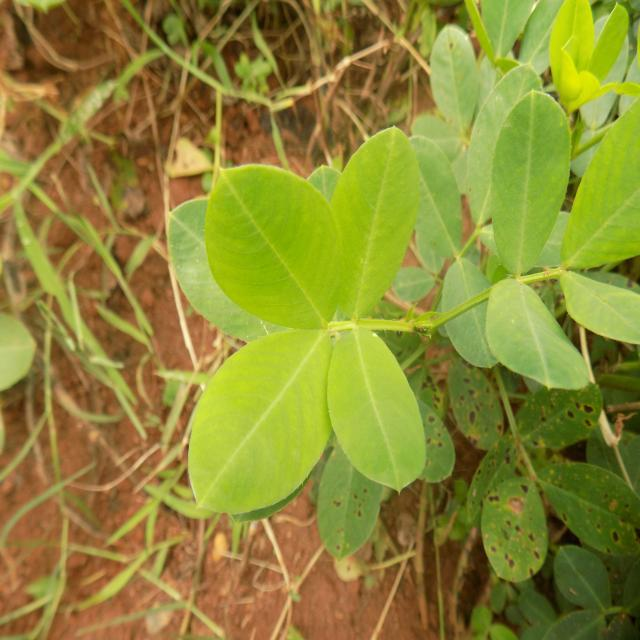Ground nut_healthy: (188, 334, 330, 520), (206, 161, 349, 337), (333, 121, 410, 335), (334, 335, 431, 492), (492, 95, 567, 280), (478, 282, 590, 386), (397, 118, 460, 255), (428, 25, 482, 133)
Ground nut_tikka leaf spot: (536, 449, 636, 565), (310, 432, 380, 554), (520, 368, 608, 462), (486, 446, 548, 576), (446, 362, 507, 452), (556, 539, 612, 609)
